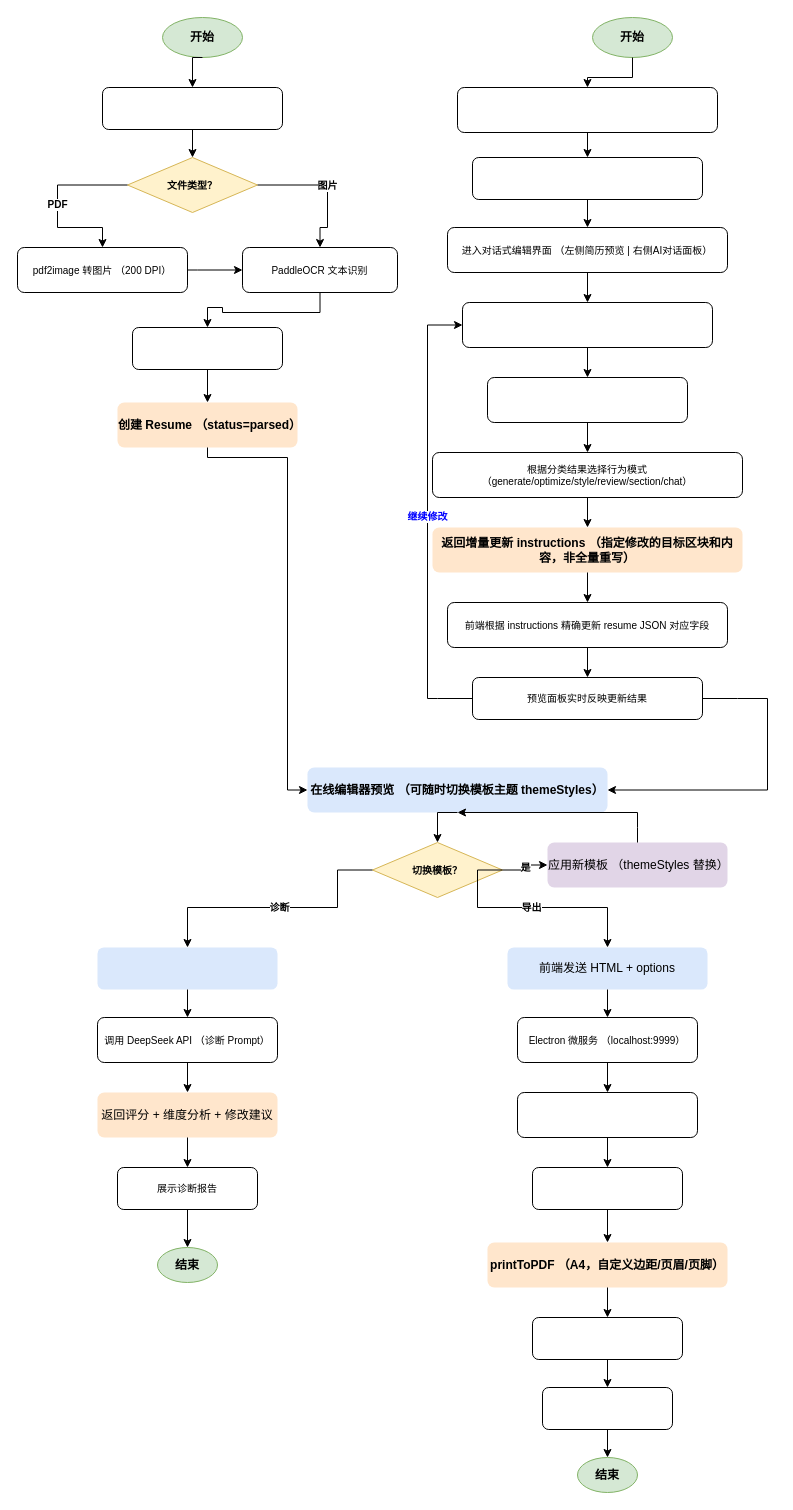
Image size: 793x1510. Some labels were removed from this diagram. The shapes that lost their labels are listed below. From the top down, each one's centre as x and y in pixels, then its label:
the point at 192,108: 上传 PDF / 图片
the point at 587,109: 用户填写基本信息表单 （姓名、目标岗位、工作年限、关键词）
the point at 587,178: 系统调用 AI 生成初始简历 JSON
the point at 587,325: 用户在对话输入框发送 自然语言修改指令
the point at 207,348: 解析文本
the point at 587,399: AI 对用户意图进行 九维度分类
the point at 187,968: 用户输入 JD 文本
the point at 607,1115: 隐藏 BrowserWindow 加载 HTML
the point at 607,1188: 等待 DOM 渲染完成
the point at 607,1338: 返回 PDF Buffer
the point at 607,1408: 浏览器下载 PDF
